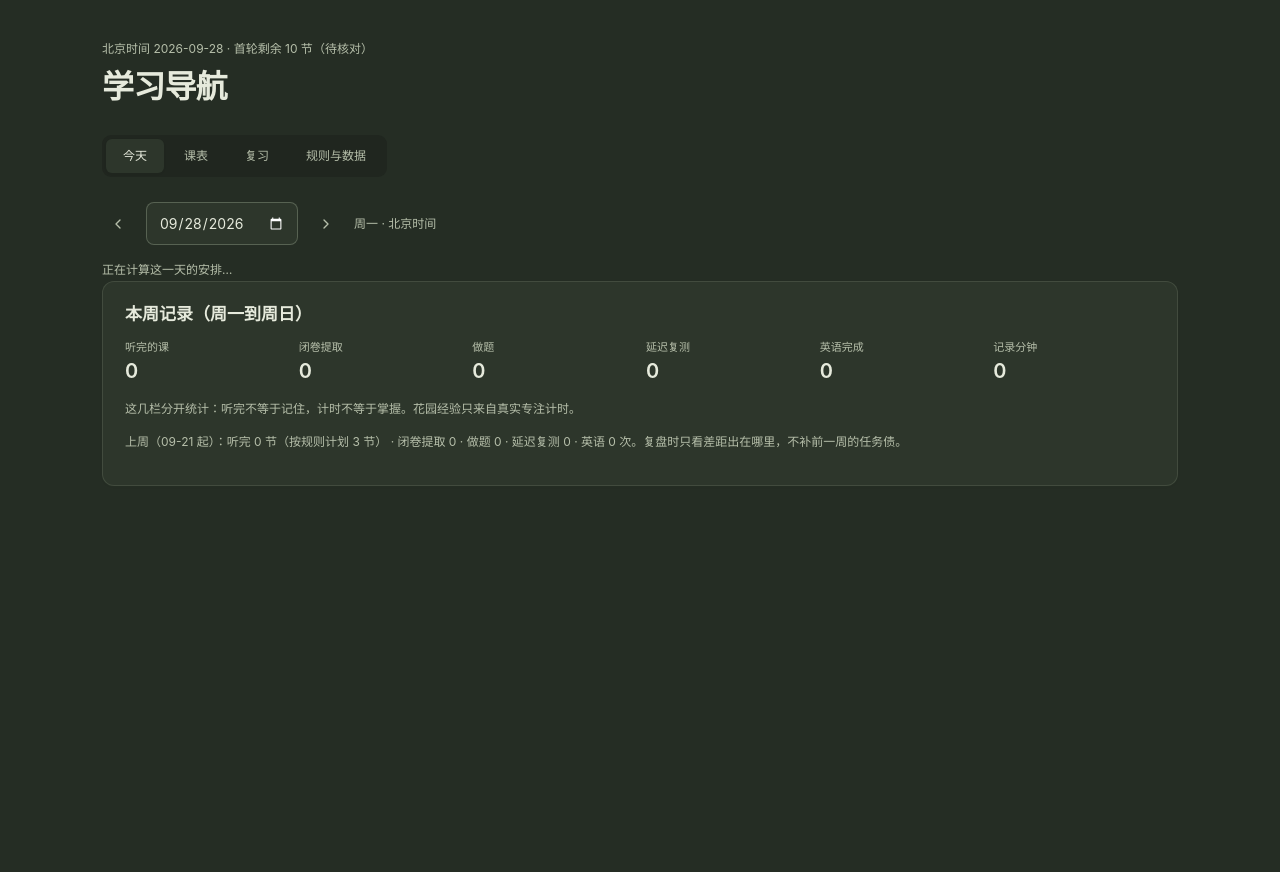
Test: 学习导航 page › a date the user turned to on purpose is kept across midnight
What coordinates should you click on to do the following:
click the button named "后一天"
I would click on:
 (326, 224)
Its box is [310, 208, 342, 240].
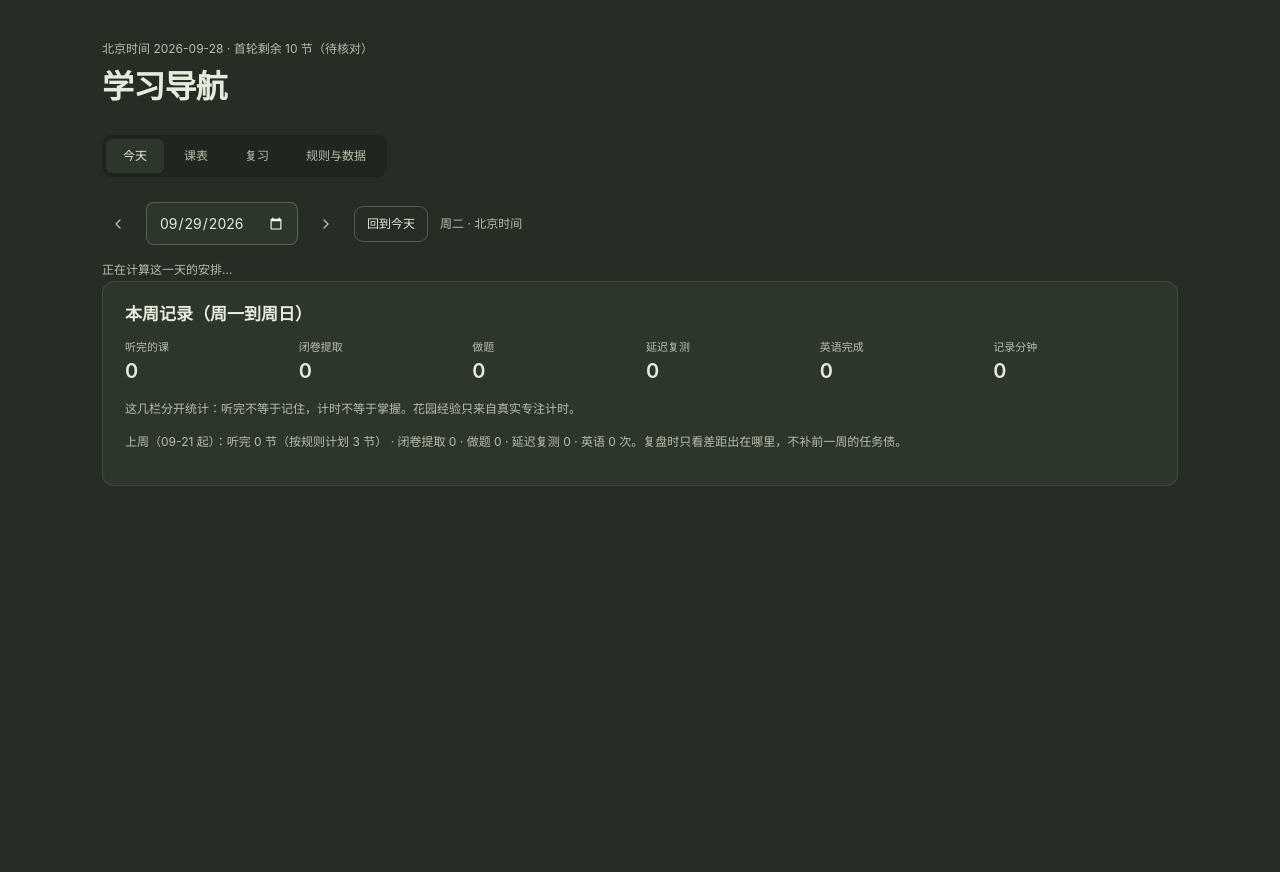
What coordinates should you click on to do the following:
click the button named "后一天"
I would click on:
 (326, 224)
Its box is [310, 208, 342, 240].
Wait 30000 ms
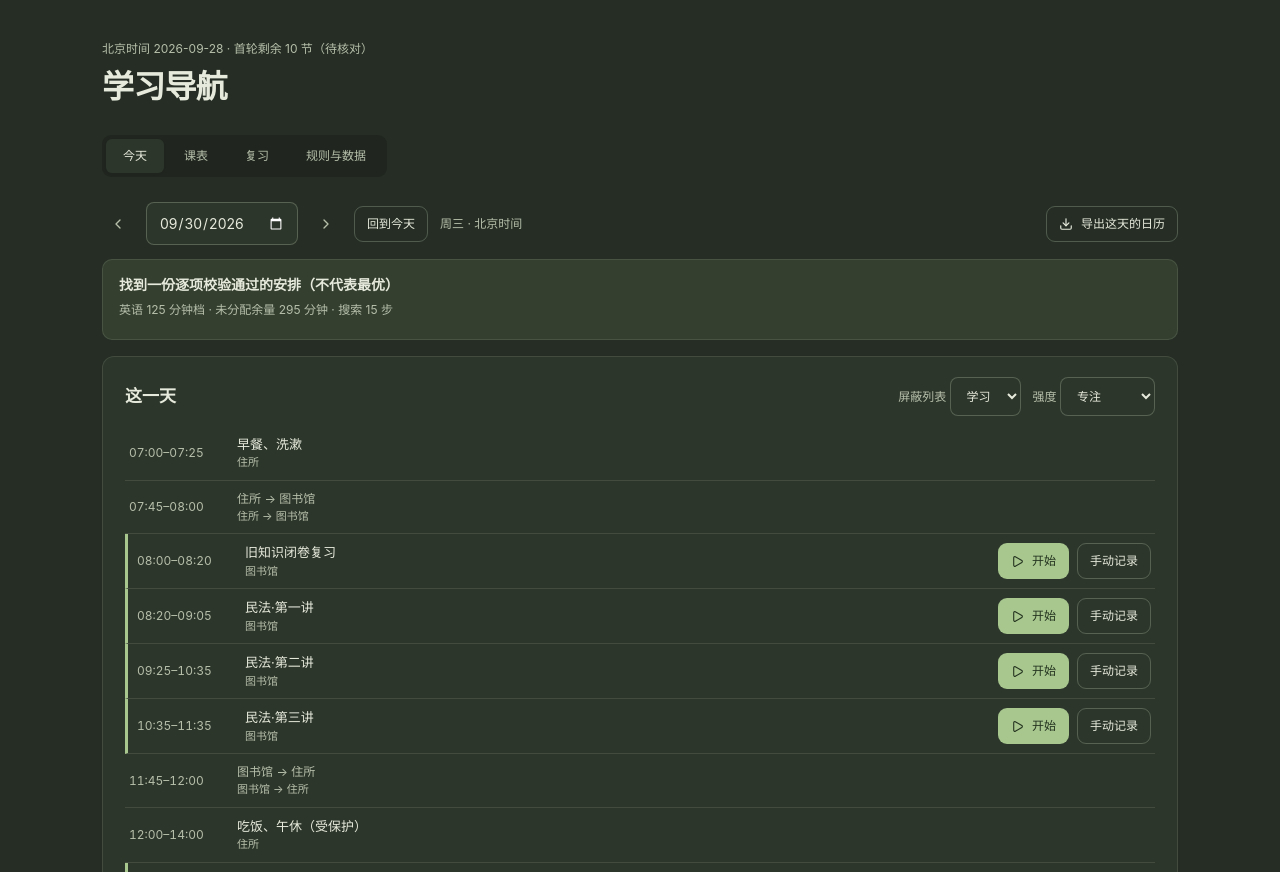
Result: the date field named "查看日期" holds "2026-09-30" at [146, 202, 298, 245]
